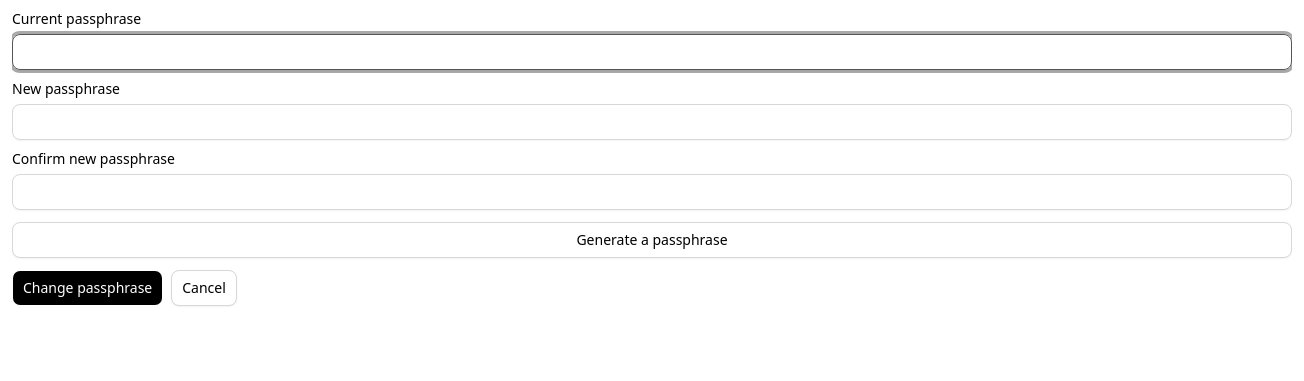
Scenario: ChangePassphraseForm › shows a wrong current passphrase from the backend
Type "not it" into the password field labelled "Current passphrase".
click(652, 52); type("not it")  # box [12,34,1292,70]
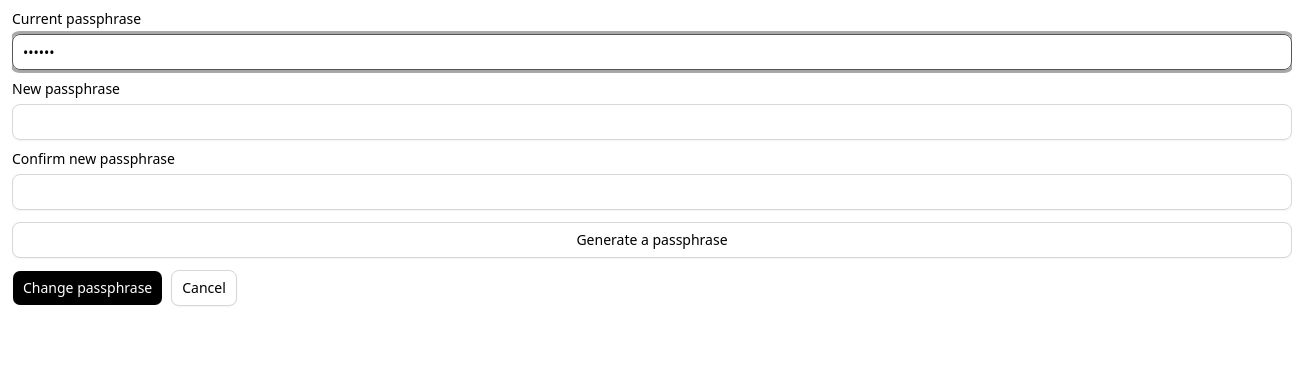
Type "a brand new passphrase" into the password field labelled "New passphrase".
click(652, 122); type("a brand new passphrase")  # box [12,104,1292,140]
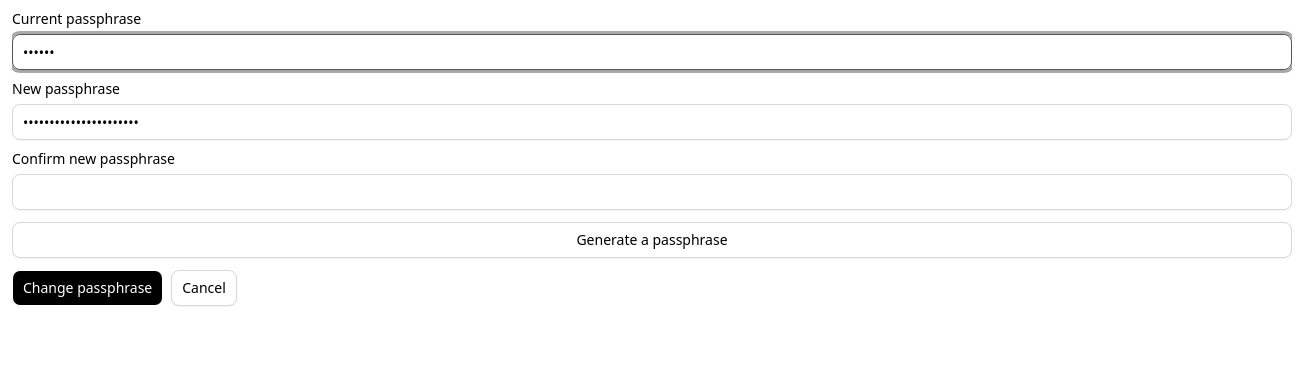
Type "a brand new passphrase" into the password field labelled "Confirm new passphrase".
click(652, 192); type("a brand new passphrase")  # box [12,174,1292,210]
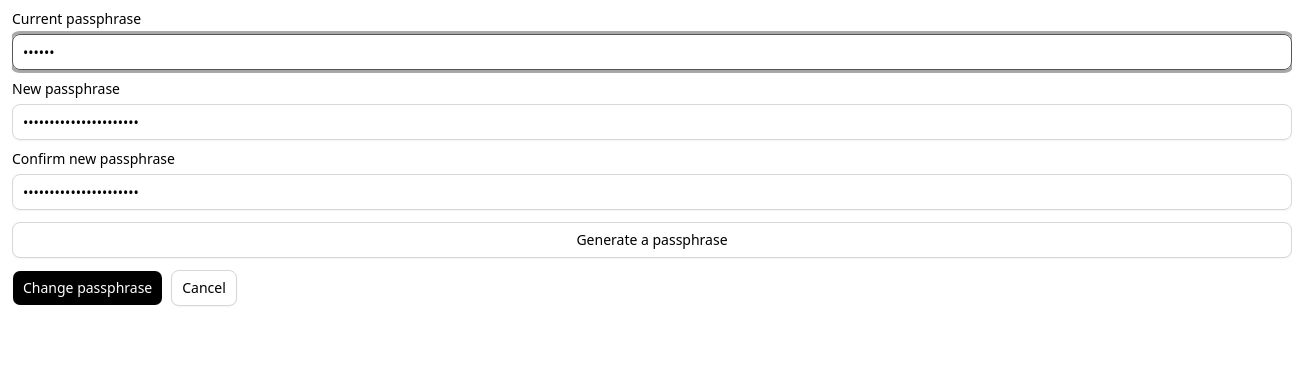
Click the button "Change passphrase".
click(88, 288)  # box [12,270,163,306]
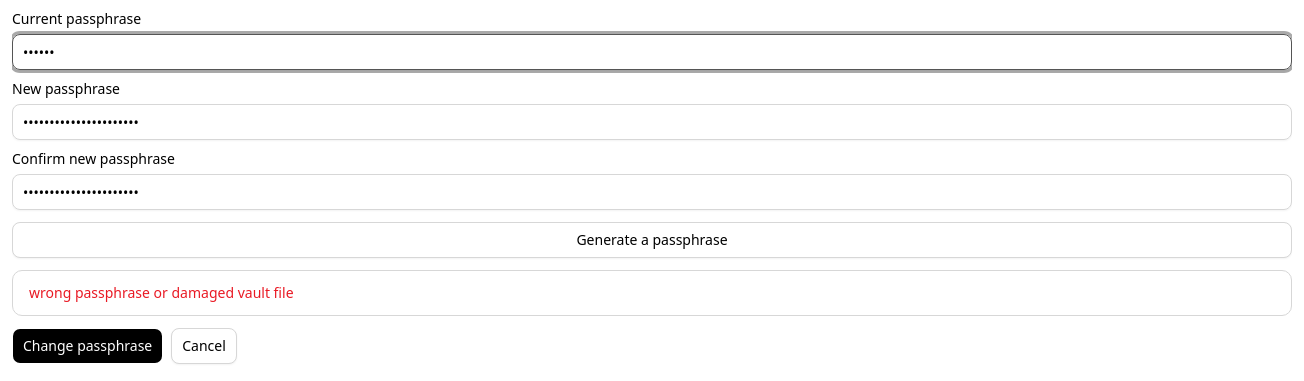
Expected: the text "wrong passphrase or damaged vault file" is shown, [29,283,294,302]
